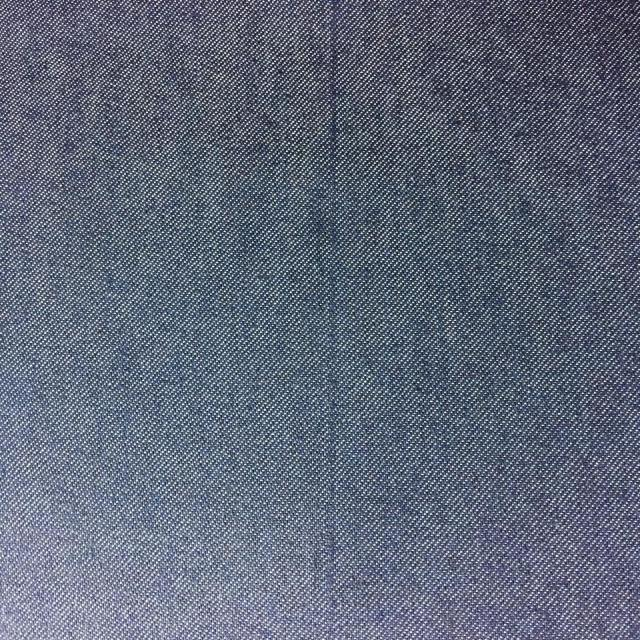Line: (321, 0, 341, 640)
